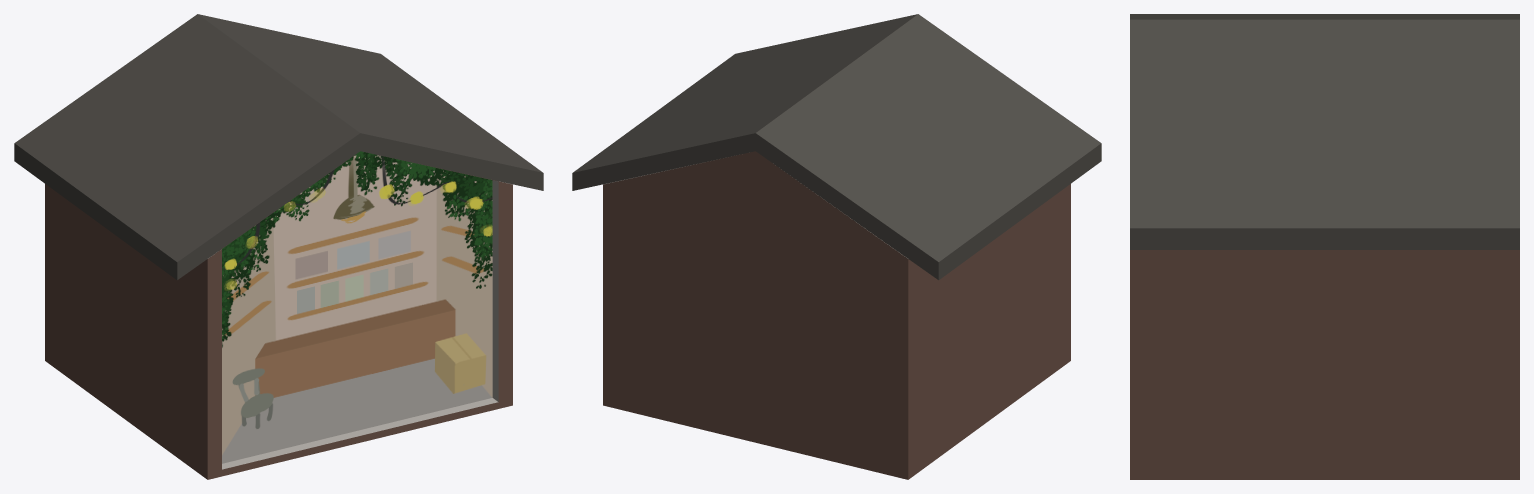
The model's file is fbx_stall_house.fbx.
3 renders of one model, left to right at view 1: azimuth 30°, elevation 25°; view 2: azimuth 150°, elevation 25°; view 3: azimuth 270°, elevation 25°, orthographic. The views are drawn at different scales.
Parts seen in each view (by area): view 1: fbx_stall_house; view 2: fbx_stall_house; view 3: fbx_stall_house.
Boxes of the visible parts, x1,y1,x2,y2 form: fbx_stall_house: (14,14,543,479); fbx_stall_house: (572,14,1101,479); fbx_stall_house: (1130,14,1519,479).
Size of the model in its own units: 4.1 by 3.31 by 3.15.
1 material, 1 textured.
